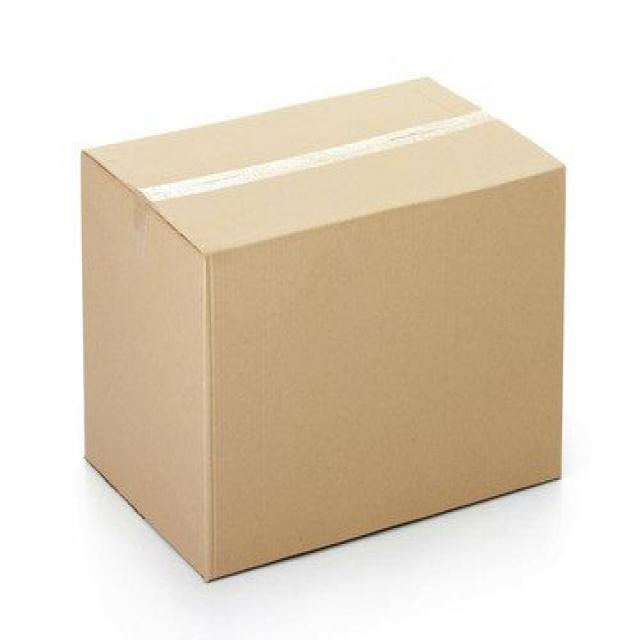box: (76, 63, 568, 585)
